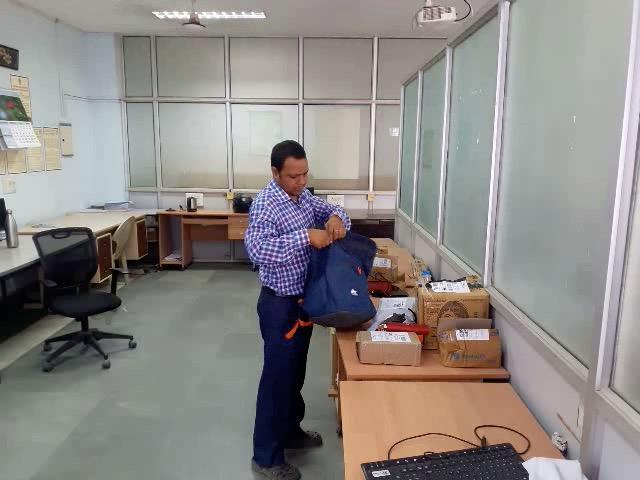shoplifting: (224, 181, 410, 331)
